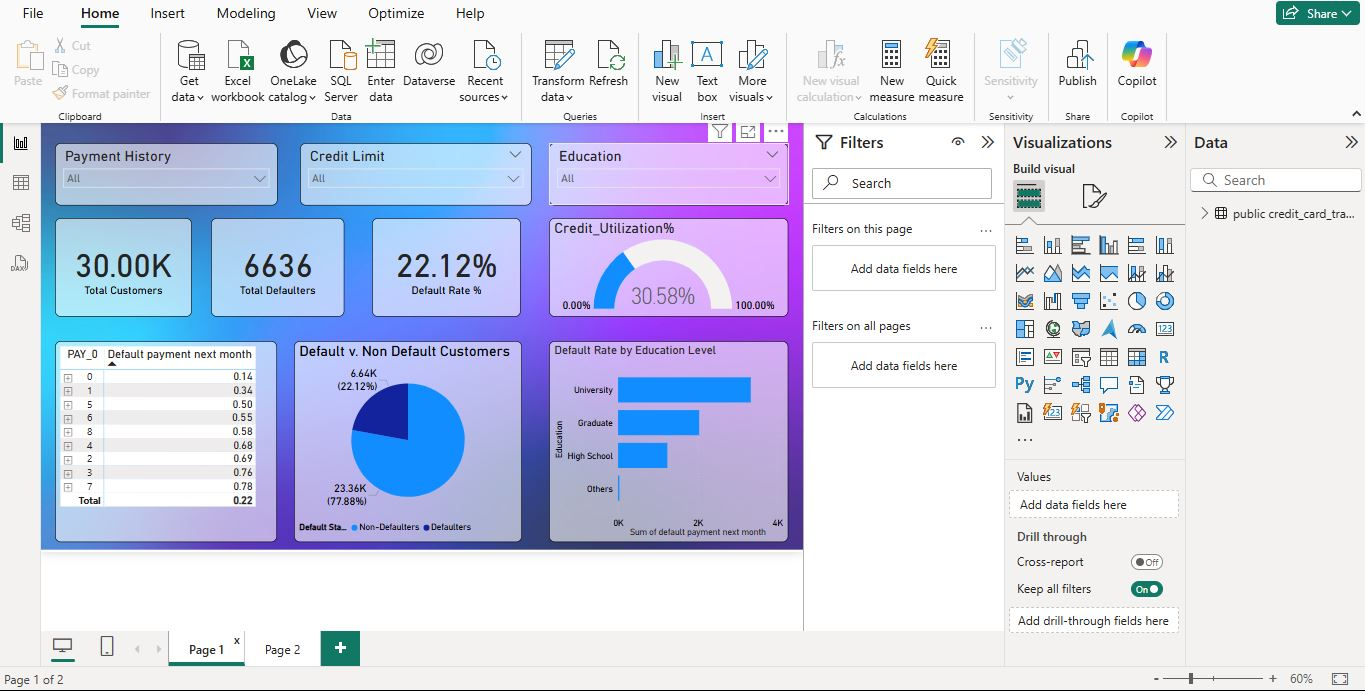

The page's visual inventory and layout, read from the dashboard file:
{"tool":"powerbi","page":{"name":"Page 1","canvas":[1280,720],"ordinal":0},"visuals":[{"type":"card","fields":{"Values":["CountNonNull(public credit_card_transformed.ID)"]},"box":[24.3,158.8,229.8,166.3],"z":0},{"type":"card","fields":{"Values":["Sum(public credit_card_transformed.default payment next month)"]},"box":[285.9,158.8,224.2,166.3],"z":1000},{"type":"card","fields":{"Values":["public credit_card_transformed.Default Rate"]},"box":[556.8,158.8,250.4,166.3],"z":2000},{"type":"clusteredBarChart","title":"Default Rate by Education Level","fields":{"Category":["public credit_card_transformed.EDUCATION"],"Y":["Sum(public credit_card_transformed.default payment next month)"]},"box":[854,366.2,401.8,338.2],"z":3000},{"type":"pieChart","title":"Default v. Non Default Customers","fields":{"Y":["CountNonNull(public credit_card_transformed.ID)"],"Category":["public credit_card_transformed.Default Status"]},"box":[424.2,366.2,383.1,338.2],"z":4000},{"type":"pivotTable","fields":{"Rows":["public credit_card_transformed.PAY_0","public credit_card_transformed.PAY_2","public credit_card_transformed.PAY_3","public credit_card_transformed.PAY_4","public credit_card_transformed.PAY_5","public credit_card_transformed.PAY_6"],"Values":["Avg(public credit_card_transformed.default payment next month)"]},"box":[23.5,366.2,372.9,337.6],"z":5000},{"type":"gauge","title":"Credit_Utilization%","fields":{"Y":["public credit_card_transformed.Credit Utilization %"]},"box":[854,158.8,401.8,166.3],"z":6000},{"type":"slicer","fields":{"Values":["public credit_card_transformed.EDUCATION"]},"box":[854,33.6,401.8,104.6],"z":7000},{"type":"slicer","fields":{"Values":["public credit_card_transformed.LIMIT_BAL"]},"box":[435.4,33.6,388.7,104.6],"z":8000},{"type":"slicer","fields":{"Values":["public credit_card_transformed.PAY_0"]},"box":[24.3,33.6,373.7,104.6],"z":9000}]}

Visuals, with their boxes on the page's 1280x720 design canvas (x1, y1, x2, y2). These are canvas units, not pixel positions in the 1365x691 screenshot, which may show the page scaled, cropped or inside an application window:
card - CountNonNull(public credit_card_transformed.ID): [24,159,254,325]
card - Sum(public credit_card_transformed.default payment next month): [286,159,510,325]
card - public credit_card_transformed.Default Rate: [557,159,807,325]
"Default Rate by Education Level" clusteredBarChart: [854,366,1256,704]
"Default v. Non Default Customers" pieChart: [424,366,807,704]
pivotTable - public credit_card_transformed.PAY_0 x public credit_card_transformed.PAY_2: [24,366,396,704]
"Credit_Utilization%" gauge: [854,159,1256,325]
slicer - public credit_card_transformed.EDUCATION: [854,34,1256,138]
slicer - public credit_card_transformed.LIMIT_BAL: [435,34,824,138]
slicer - public credit_card_transformed.PAY_0: [24,34,398,138]
